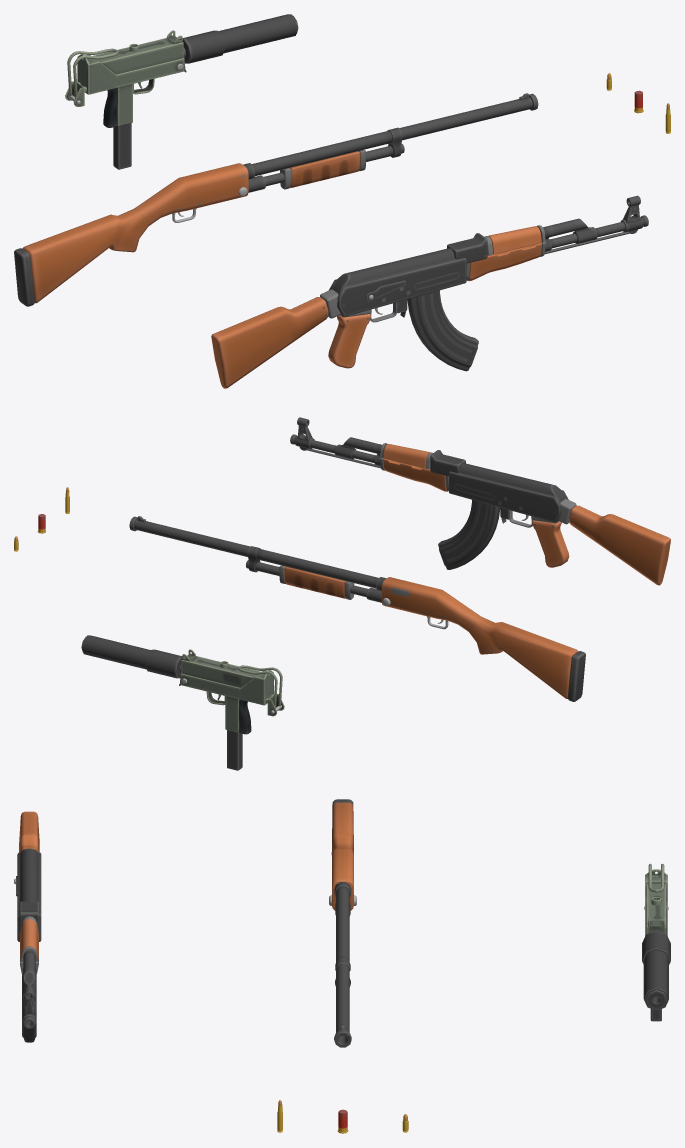
The model's file is Stylized Gun Models.fbx.
3 views of the same model, one above another, from view 1: azimuth 30°, elevation 25°; view 2: azimuth 150°, elevation 25°; view 3: azimuth 270°, elevation 25° (orthographic). The views are drawn at different scales.
Visible parts, largest first — view 1: AK - 47 Body, Shotgun Handle, MAC - 10 Body, Shotgun barrel, AK - 47 Magazine, Suppressor, AK - 47 Barrel, Shotgun Forestock, Magazine, Shoulder Rest; view 2: AK - 47 Body, Shotgun Handle, MAC - 10 Body, Shotgun barrel, AK - 47 Magazine, Suppressor, AK - 47 Barrel, Shotgun Forestock, Magazine; view 3: AK - 47 Body, Shotgun barrel, Shotgun Handle, Suppressor, MAC - 10 Body, AK - 47 Barrel.
Boxes of the visible parts, bbox=[...] form: AK - 47 Body: bbox=[211, 225, 545, 388]; Shotgun Handle: bbox=[14, 163, 248, 306]; MAC - 10 Body: bbox=[77, 30, 184, 127]; Shotgun barrel: bbox=[238, 93, 538, 196]; AK - 47 Magazine: bbox=[407, 290, 478, 371]; Suppressor: bbox=[179, 14, 298, 63]; AK - 47 Barrel: bbox=[543, 195, 648, 254]; Shotgun Forestock: bbox=[280, 150, 365, 189]; Magazine: bbox=[113, 123, 131, 169]; Shoulder Rest: bbox=[67, 48, 118, 104]; AK - 47 Body: bbox=[379, 443, 670, 585]; Shotgun Handle: bbox=[381, 577, 585, 701]; MAC - 10 Body: bbox=[180, 649, 273, 734]; Shotgun barrel: bbox=[129, 516, 390, 606]; AK - 47 Magazine: bbox=[438, 500, 500, 569]; Suppressor: bbox=[81, 635, 184, 678]; AK - 47 Barrel: bbox=[290, 417, 381, 468]; Shotgun Forestock: bbox=[279, 565, 354, 599]; Magazine: bbox=[227, 730, 242, 770]; AK - 47 Body: bbox=[17, 811, 41, 976]; Shotgun barrel: bbox=[329, 882, 356, 1047]; Shotgun Handle: bbox=[331, 799, 353, 910]; Suppressor: bbox=[642, 930, 670, 1010]; MAC - 10 Body: bbox=[645, 869, 667, 936]; AK - 47 Barrel: bbox=[22, 951, 36, 1028].
Bounding box in the file's own units: 245 × 49.59 × 210.
1 material, 1 textured.
